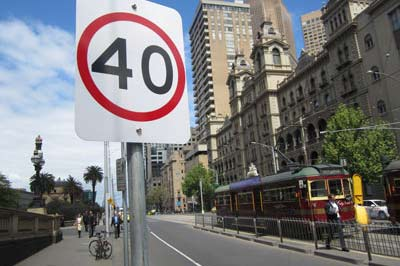40 Km/hr: (77, 12, 186, 120)
